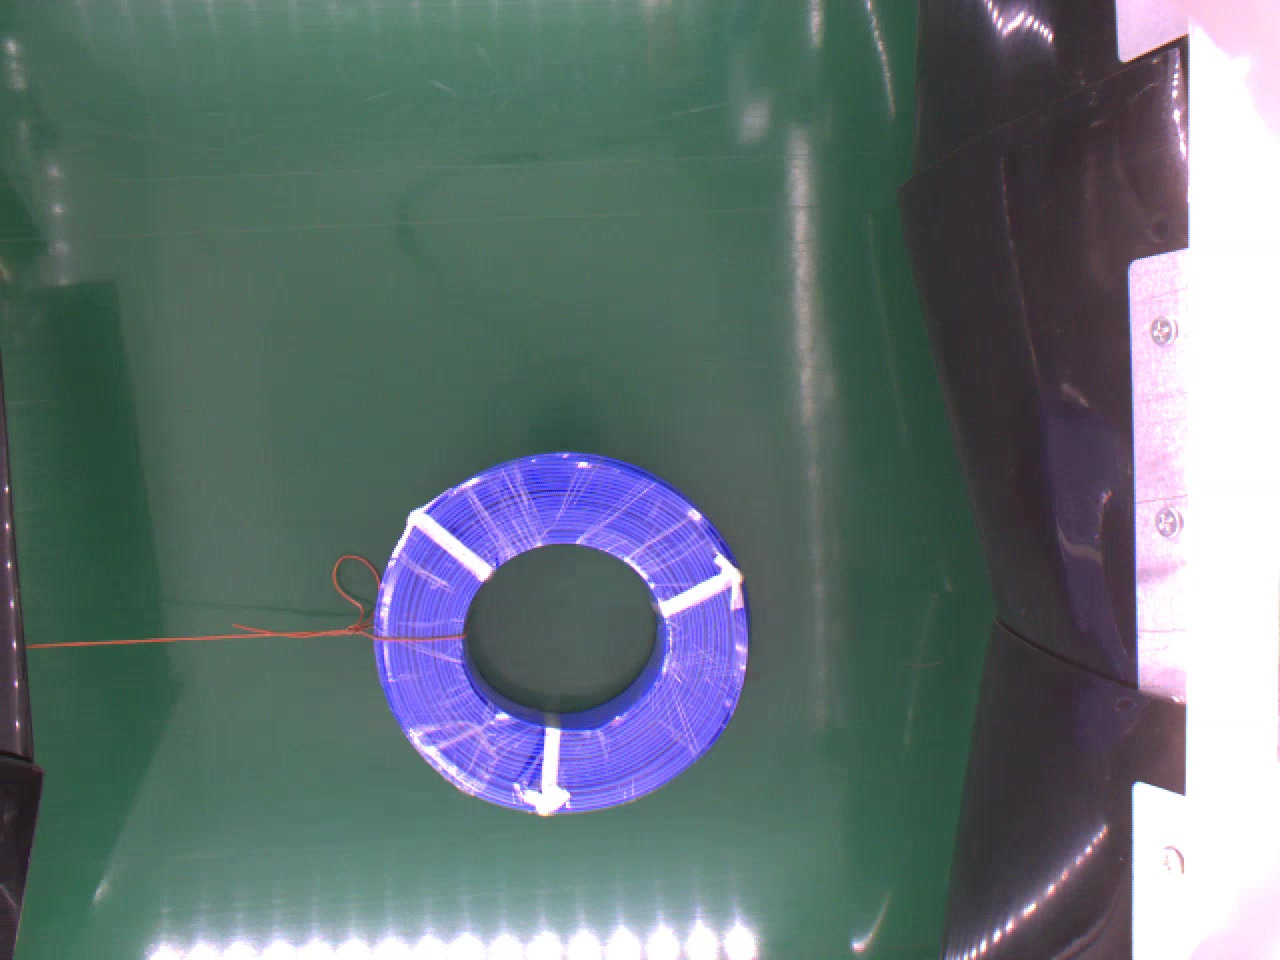blue: (367, 442, 761, 814)
